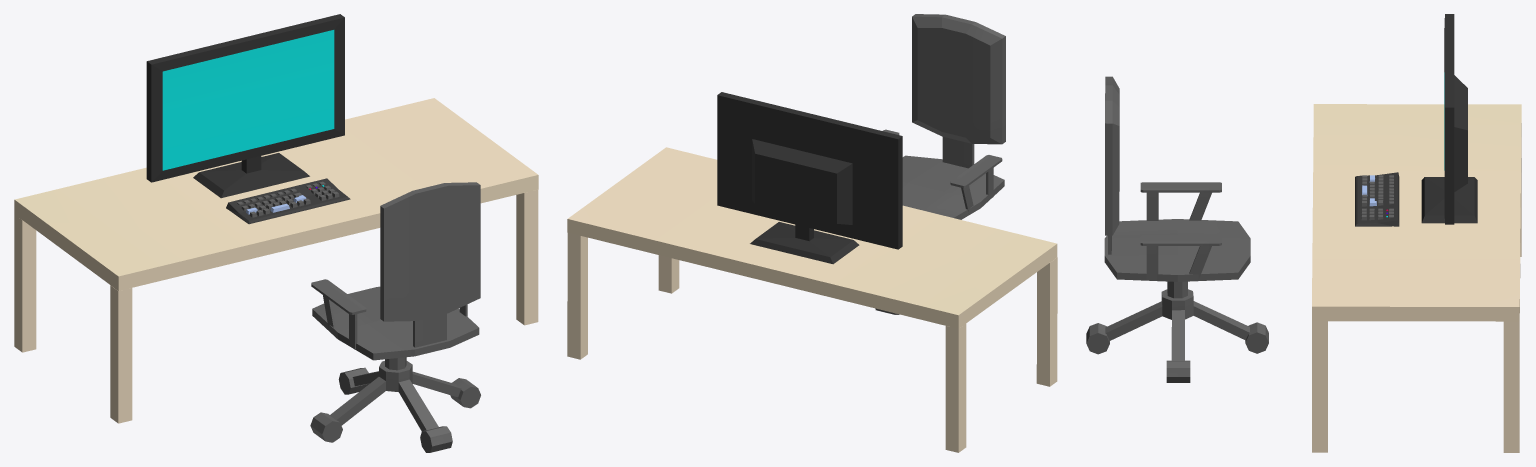
File: banmaytinh.fbx
The picture shows the model from 3 angles, left to right: view 1: azimuth 30°, elevation 25°; view 2: azimuth 150°, elevation 25°; view 3: azimuth 270°, elevation 25°; orthographic projection. The views are drawn at different scales.
Parts seen in each view (by area): view 1: banmaytinh; view 2: banmaytinh; view 3: banmaytinh.
Boxes of the visible parts, <box> form: banmaytinh: <box>14,14,538,452</box>; banmaytinh: <box>567,14,1057,452</box>; banmaytinh: <box>1086,14,1521,452</box>.
Bounding box in the file's own units: 249 × 162 × 226.
1 material, 1 textured.
